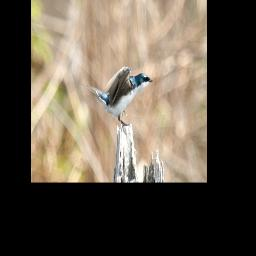Swallow: (81, 65, 153, 127)
